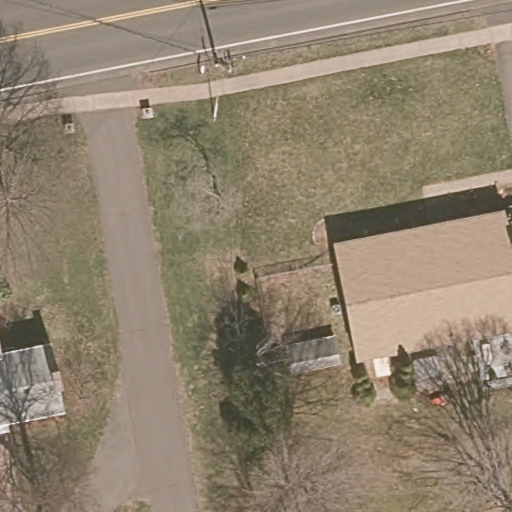DT: (196, 48, 246, 122)
